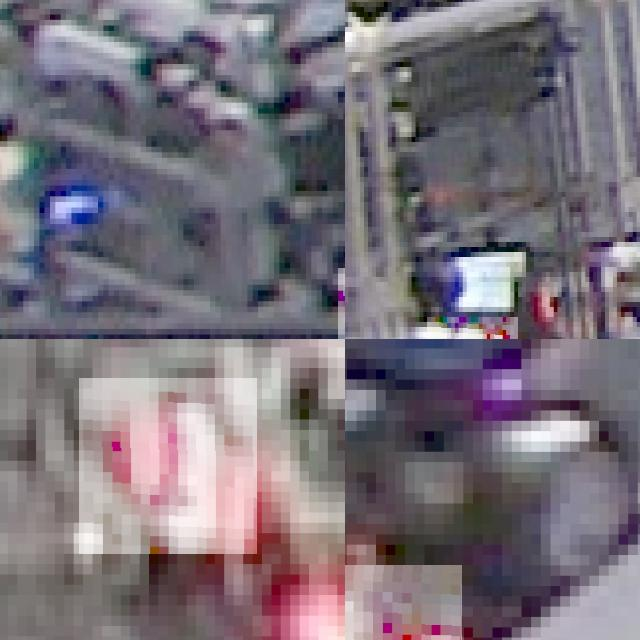R2: (427, 317, 518, 339)
R3: (79, 378, 257, 554), (345, 565, 463, 640)
